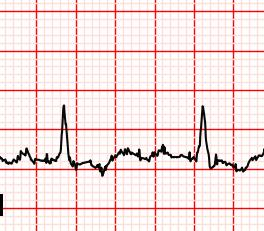T inversion: (81, 149, 126, 180), (229, 151, 260, 177)
